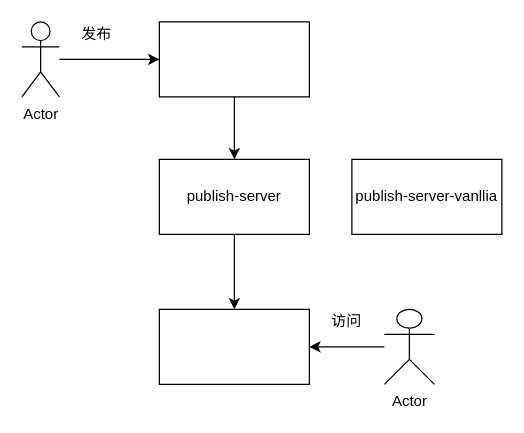
The diagram is 524 pixels wide and 433 high, and some of its shapes have lost their labels. Here are the shapes that lost their labels. From the top down, the centre of each, then its label:
At (x=233, y=59): "publish-tool".
At (x=233, y=346): "server".
